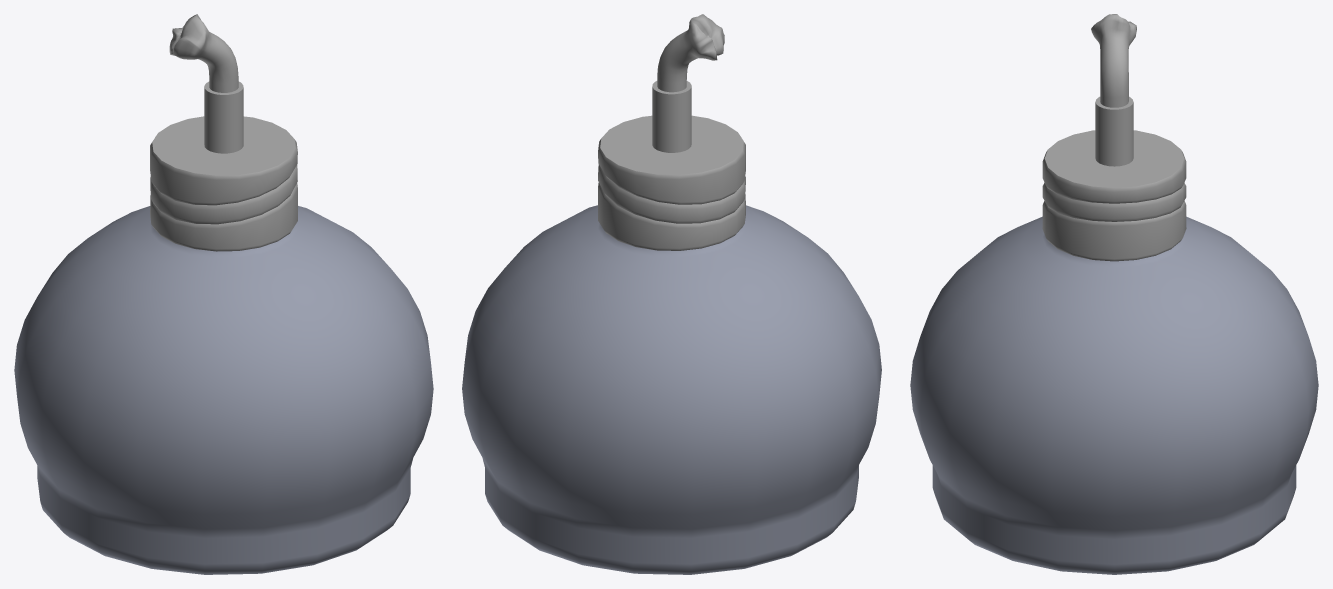
The model's file is LP_AlcoholBurner_01.fbx.
3 renders of one model, left to right at view 1: azimuth 30°, elevation 25°; view 2: azimuth 150°, elevation 25°; view 3: azimuth 270°, elevation 25°, orthographic. The views are drawn at different scales.
Visible parts, largest first — view 1: polySurface24; view 2: polySurface24; view 3: polySurface24.
Part boxes in pixels (<box>): polySurface24: <box>14,14,433,574</box>; polySurface24: <box>462,14,881,574</box>; polySurface24: <box>910,14,1318,574</box>.
Bounding box in the file's own units: 10 × 12.89 × 10.
